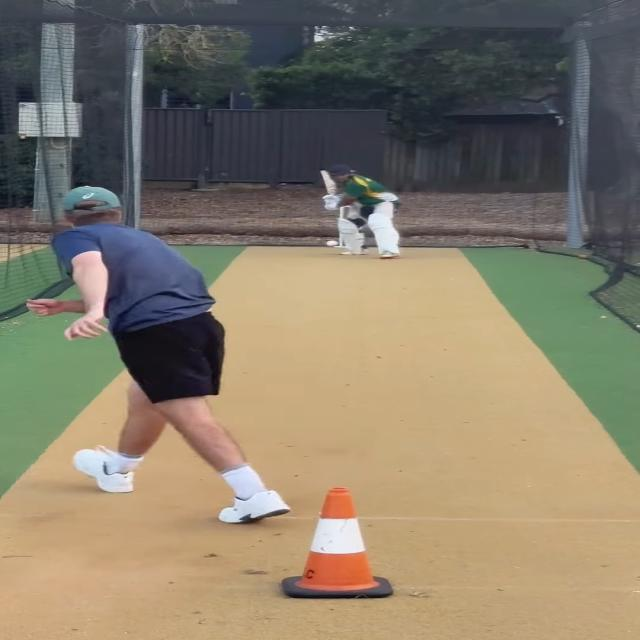Cricket ball: (325, 239, 340, 248)
